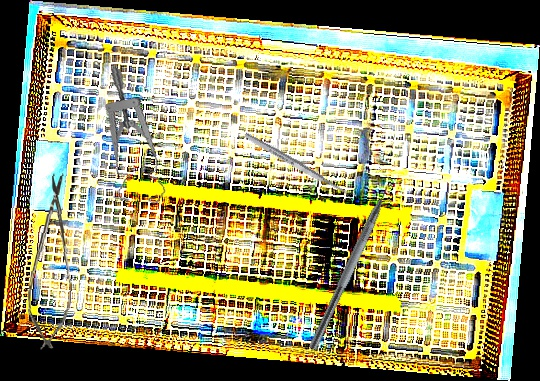Chopper: (308, 172, 407, 356)
Micro Scissor: (25, 171, 78, 352)
Speculum: (85, 67, 188, 209)
Surgical Spoon: (243, 131, 357, 202)
